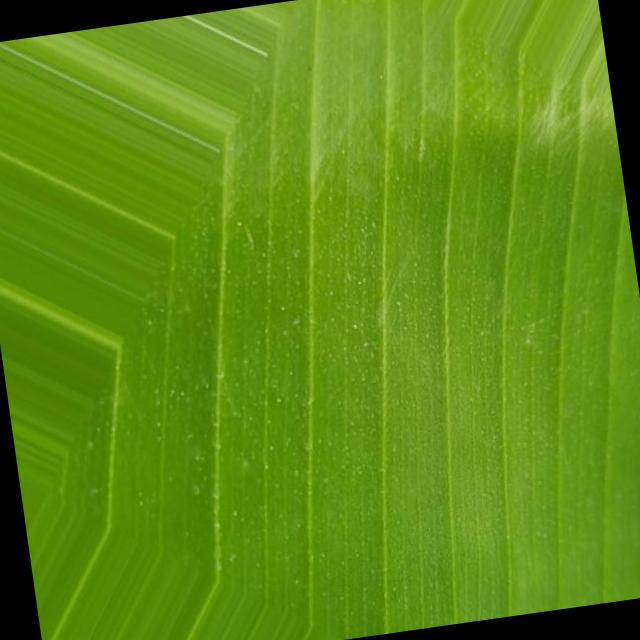Banana_Healthy: (251, 60, 631, 534)
